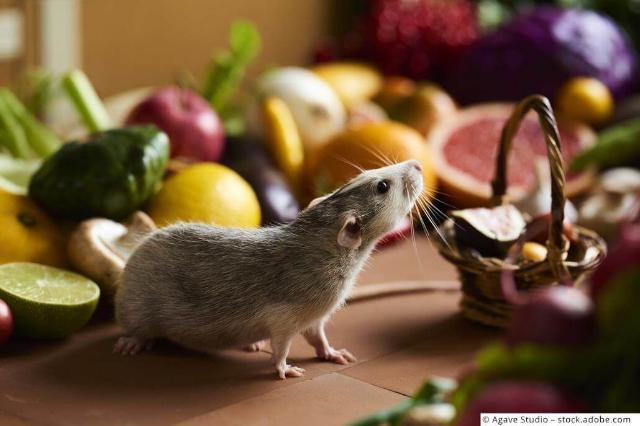rat: (100, 153, 444, 389)
